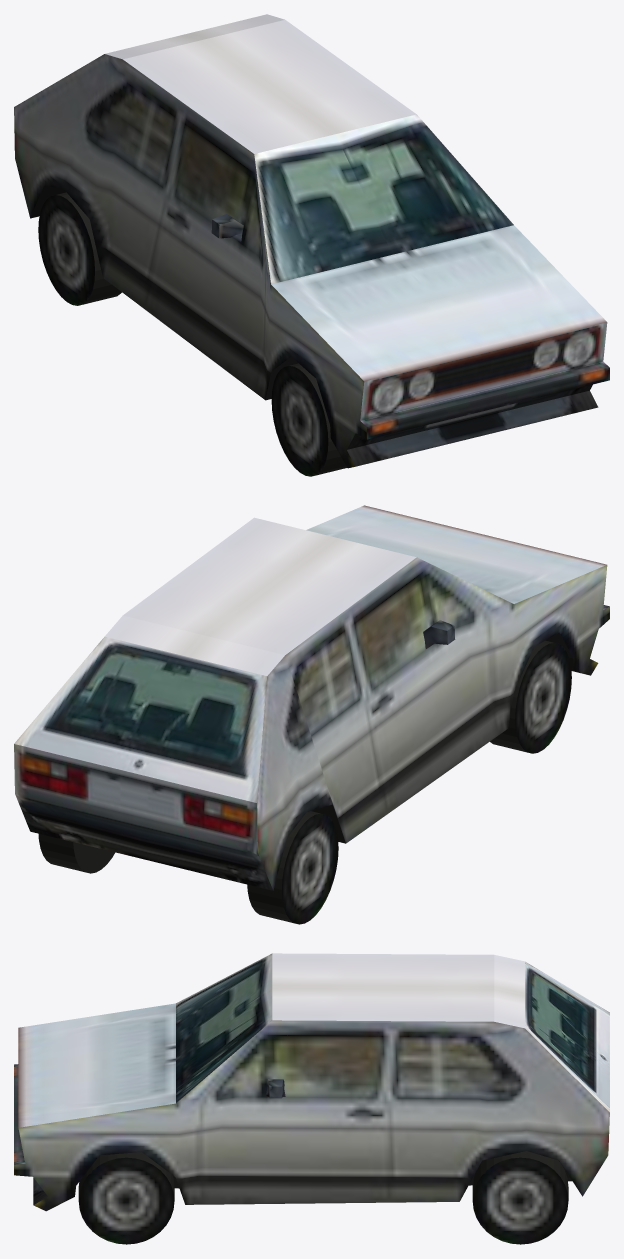
The model's file is volkswagen-fox.glb.
3 renders of one model, top to bottom at view 1: azimuth 30°, elevation 25°; view 2: azimuth 150°, elevation 25°; view 3: azimuth 270°, elevation 25°, orthographic. The views are drawn at different scales.
Visible parts, largest first — view 1: Object_2; view 2: Object_2; view 3: Object_2.
Boxes of the visible parts, <box> form: Object_2: <box>14,14,609,476</box>; Object_2: <box>14,505,609,924</box>; Object_2: <box>14,953,609,1244</box>.
Bounding box in the file's own units: 1.1 × 1.06 × 2.76.
Materials: 1 (1 with a texture image).
